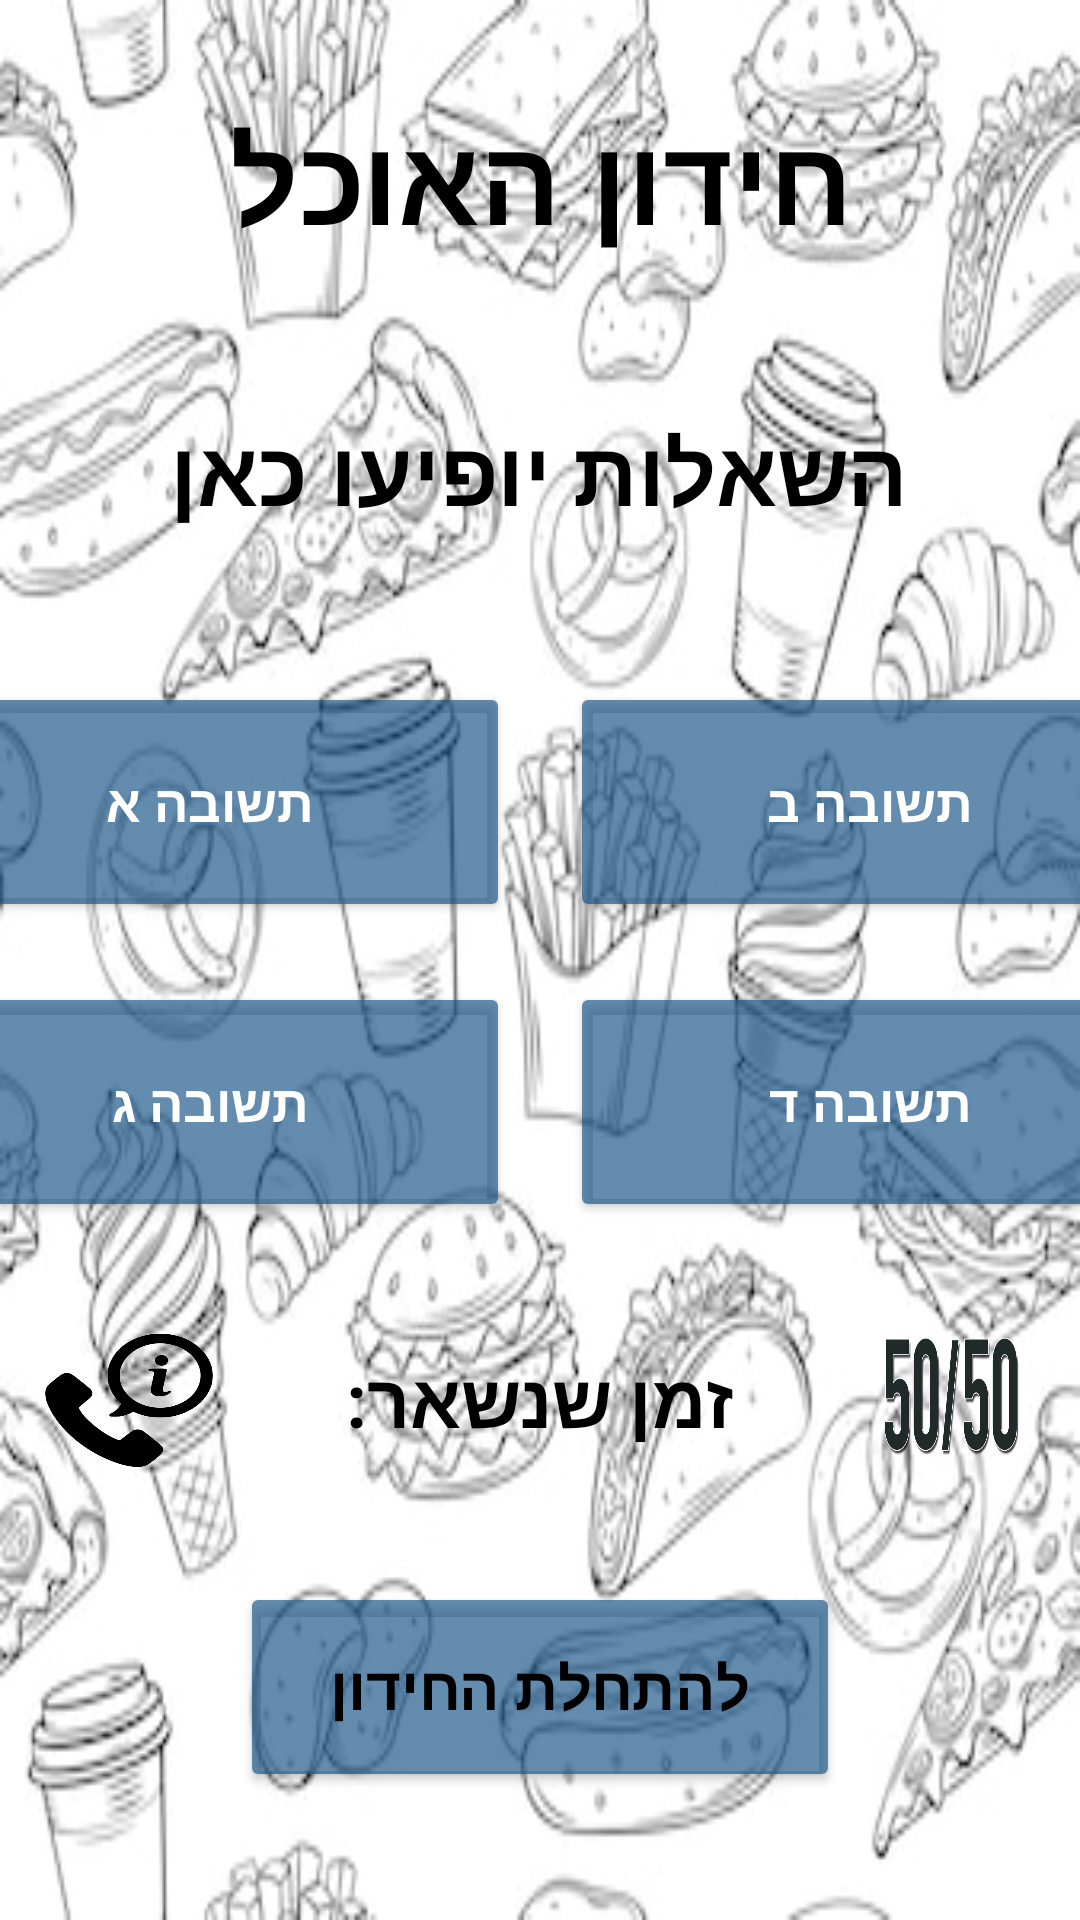

Icons on this 1080×1920 Android screen, each with the point to tap as [x,y]:
helpphonefriend: [129,1402]
